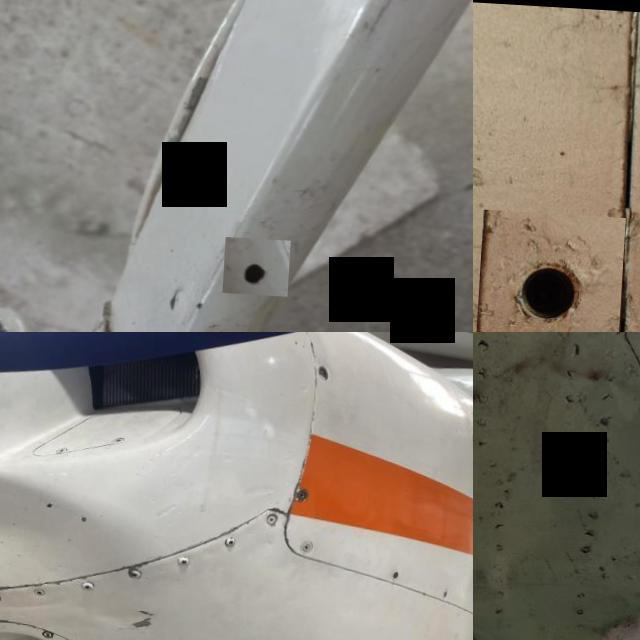Crack: (321, 0, 473, 38), (228, 232, 294, 292)
Dent: (247, 479, 280, 494), (156, 500, 181, 517), (176, 452, 196, 470), (192, 442, 206, 454), (158, 444, 172, 454), (168, 467, 186, 474), (225, 451, 235, 458), (115, 452, 122, 460), (168, 516, 176, 523), (58, 562, 68, 567), (37, 542, 45, 548), (150, 456, 158, 462), (184, 483, 193, 488), (142, 463, 148, 470), (152, 494, 159, 500), (146, 508, 153, 514), (12, 532, 20, 537), (180, 506, 186, 512), (203, 506, 210, 511), (167, 453, 174, 458), (124, 497, 132, 501), (114, 545, 119, 550), (12, 546, 18, 550), (23, 528, 29, 532), (29, 554, 35, 558), (116, 526, 120, 532), (114, 470, 120, 474), (30, 545, 35, 549), (48, 562, 53, 566), (16, 570, 21, 574), (32, 569, 38, 572), (12, 562, 16, 564)
Missing_Fastener: (479, 208, 628, 332)
